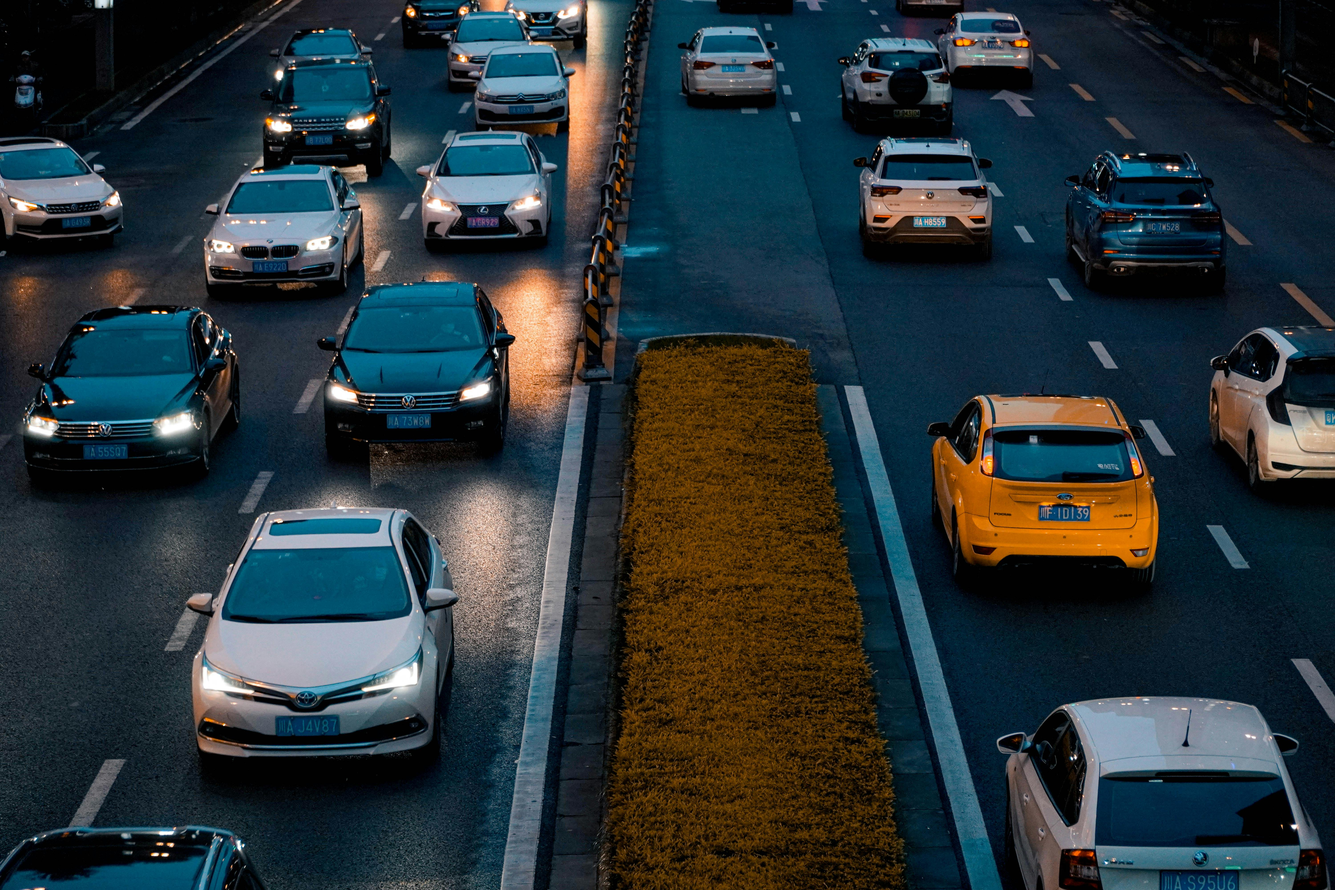other: (986, 690, 1329, 890), (193, 498, 438, 771), (16, 301, 248, 483), (934, 392, 1155, 574), (318, 280, 512, 463), (1060, 144, 1226, 282), (1207, 316, 1335, 484), (199, 160, 362, 290), (3, 817, 272, 890), (413, 123, 552, 254), (860, 132, 994, 259), (248, 67, 397, 179), (0, 133, 129, 253), (833, 34, 962, 131), (664, 28, 785, 104), (477, 44, 580, 122), (940, 10, 1036, 81)
